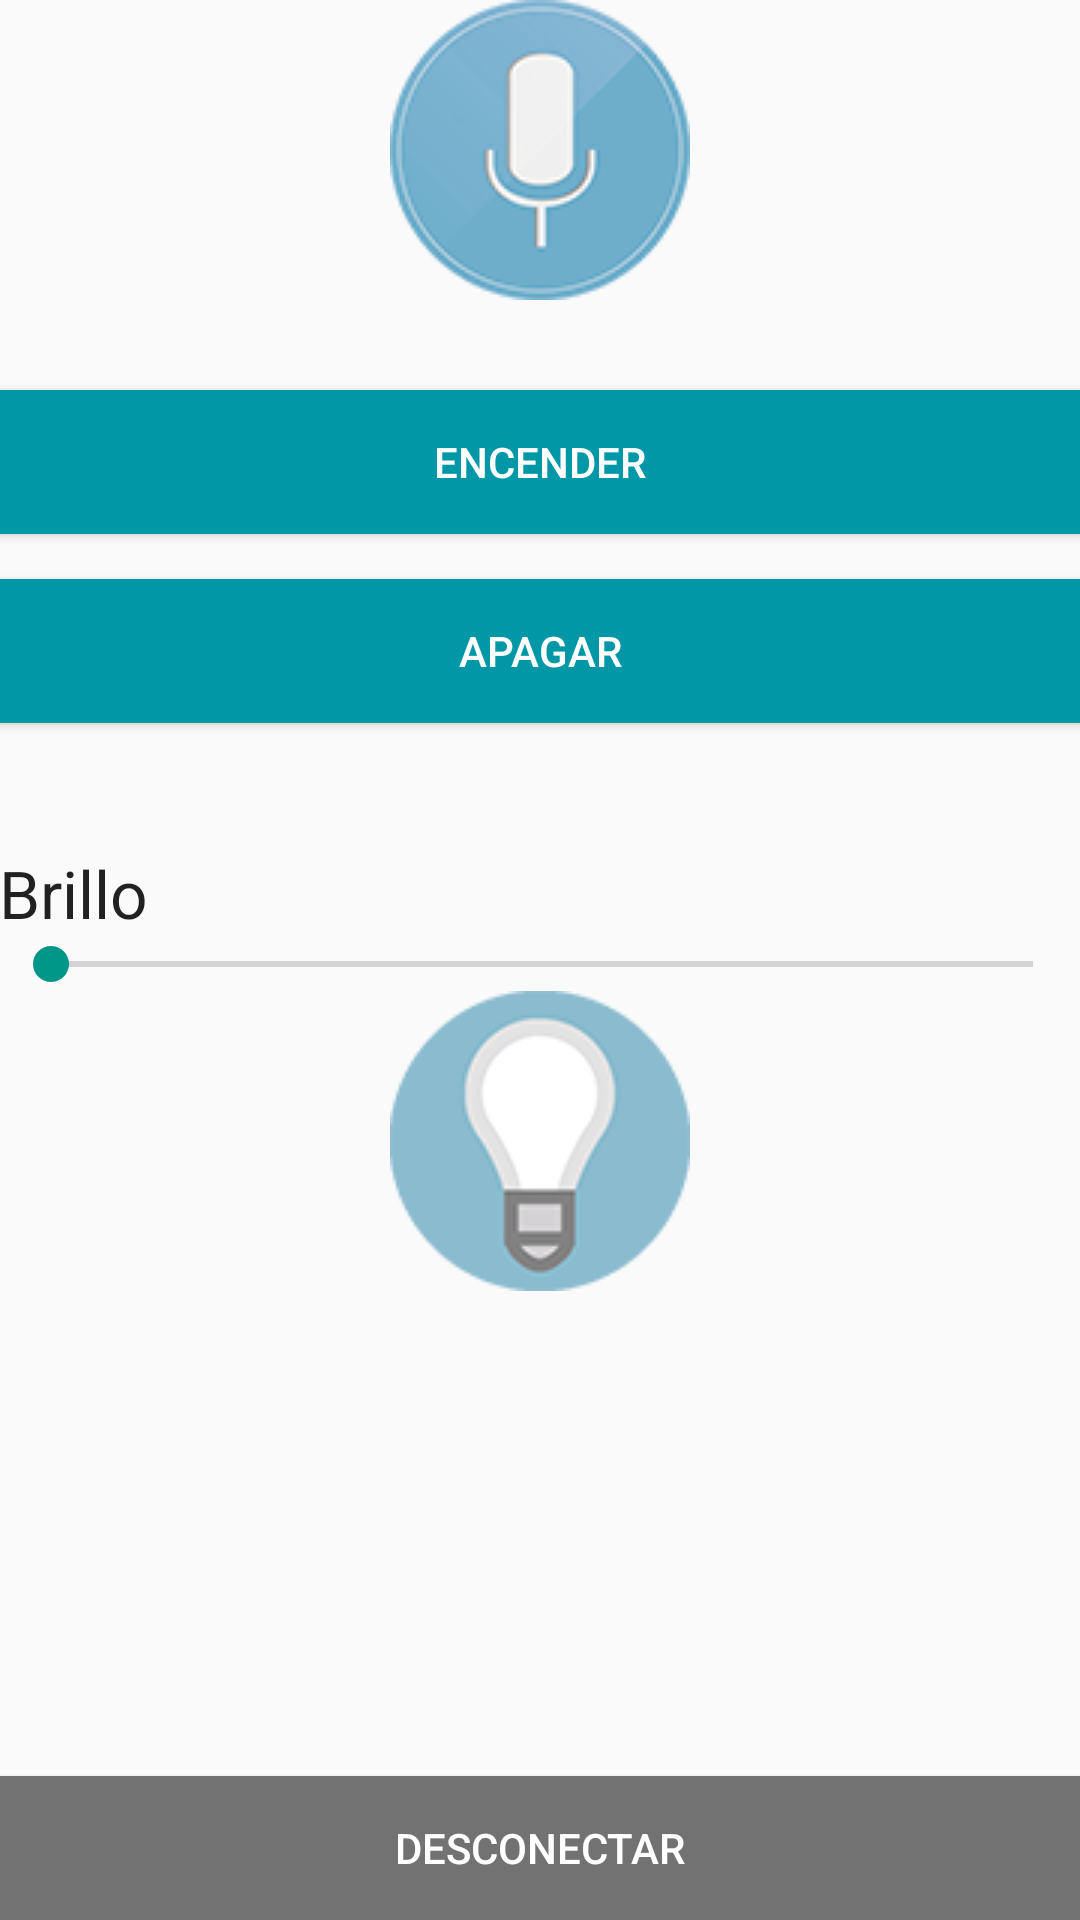

Point at icon controls on the screen. Image size 1080x1920, points as (x=x, y=y).
focoapagado: (x=540, y=1141)
microfonobuscando: (x=540, y=150)
